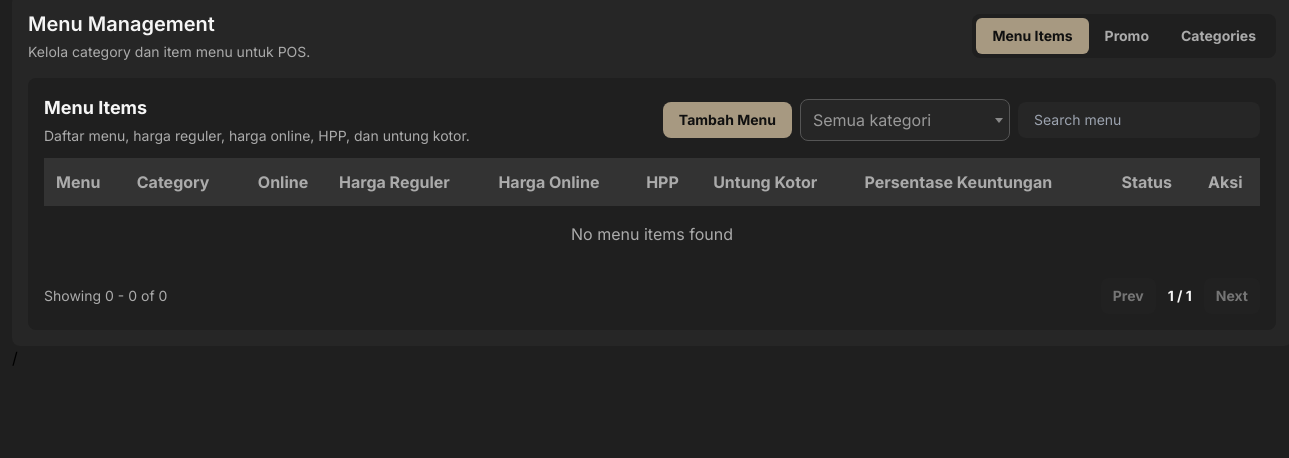
Scenario: categories › opens Menu Items first, then lists the categories in one table: POS order, inactive last, dragged to move
The image size is (1289, 458).
Step 1. Click the button "Categories" → (1218, 36), box x1=1165 y1=18 x2=1272 y2=54
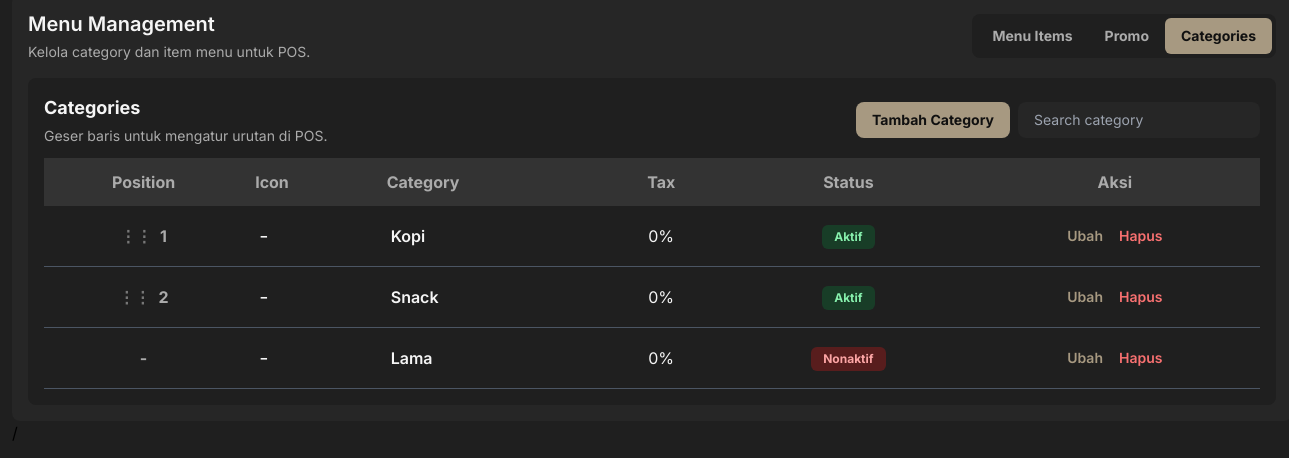
Expected: the text "Snack" is shown, x1=375 y1=266 x2=595 y2=328
